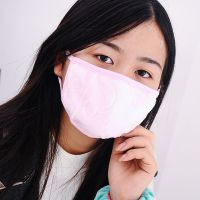face_mask: (66, 19, 165, 135)
